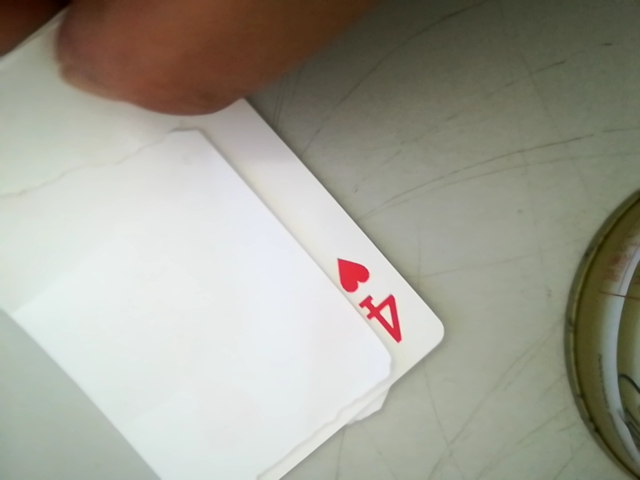hx 4: (320, 250, 419, 353)
